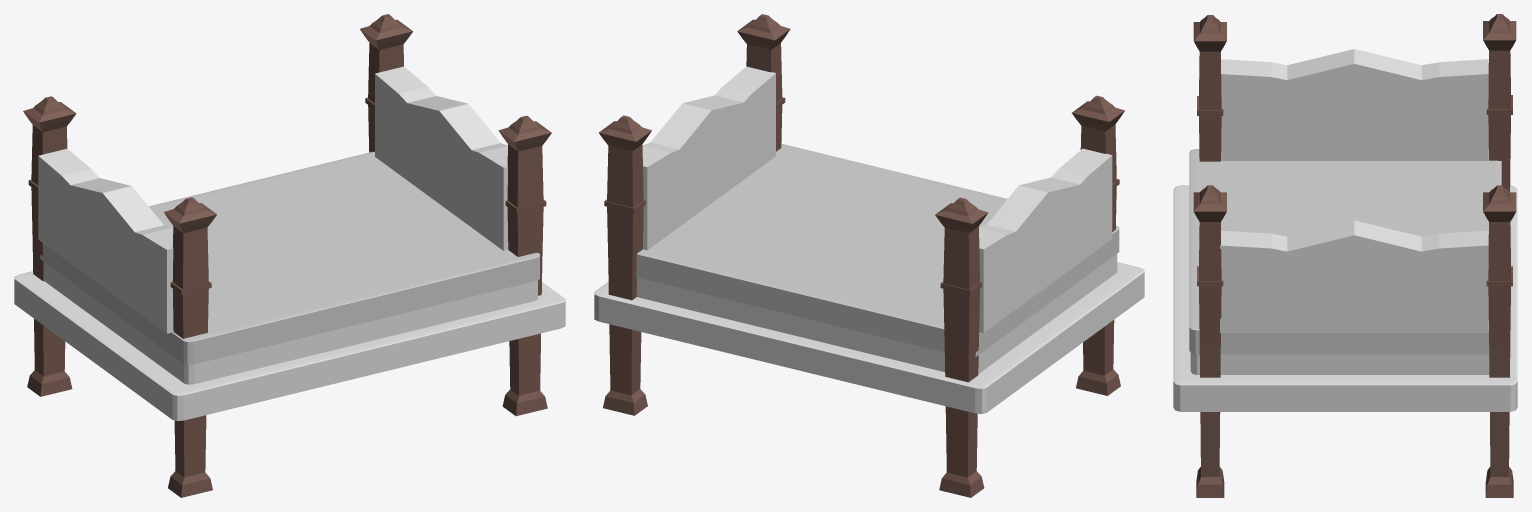
File: bed.fbx
3 views of the same model, side by side, from view 1: azimuth 30°, elevation 25°; view 2: azimuth 150°, elevation 25°; view 3: azimuth 270°, elevation 25° (orthographic). The views are drawn at different scales.
Parts seen in each view (by area): view 1: Cube.006, Cube.008, Cube.005, Cube.001, Cube, Cube.004, Cube.007, Cube.002, Cube.003; view 2: Cube.006, Cube.008, Cube.005, Cube.001, Cube.002, Cube.003, Cube, Cube.007, Cube.004; view 3: Cube.001, Cube.006, Cube.005, Cube.008, Cube.003, Cube.004, Cube, Cube.002, Cube.007.
Part boxes in pixels (x1,y1,x2,y2): Cube.006: (40,151,539,364); Cube.008: (14,271,565,421); Cube.005: (38,148,173,333); Cube.001: (375,66,508,250); Cube: (44,262,537,384); Cube.004: (498,115,551,416); Cube.007: (163,197,216,497); Cube.002: (23,96,76,396); Cube.003: (360,14,412,152); Cube.006: (636,143,1119,356); Cube.008: (594,262,1144,413); Cube.005: (979,148,1112,332); Cube.001: (642,66,775,250); Cube.002: (935,197,988,497); Cube.003: (599,115,651,415); Cube: (636,254,1117,373); Cube.007: (1072,95,1124,395); Cube.004: (737,14,790,151); Cube.001: (1220,220,1488,332); Cube.006: (1189,149,1501,354); Cube.005: (1221,49,1488,160); Cube.008: (1173,185,1517,411); Cube.003: (1483,185,1516,497); Cube.004: (1193,185,1226,497); Cube: (1190,353,1489,374); Cube.002: (1483,14,1516,191); Cube.007: (1193,15,1226,161).
Size of the model in its own units: 562 by 397 by 409.
